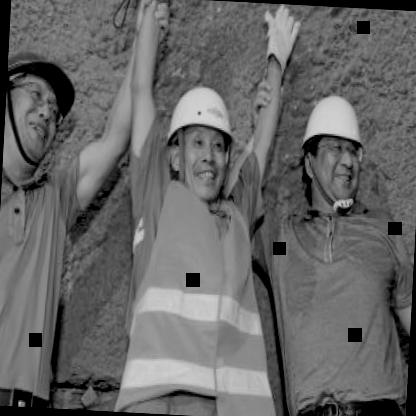helmet: (158, 74, 246, 204), (2, 36, 87, 170), (290, 82, 370, 211)
